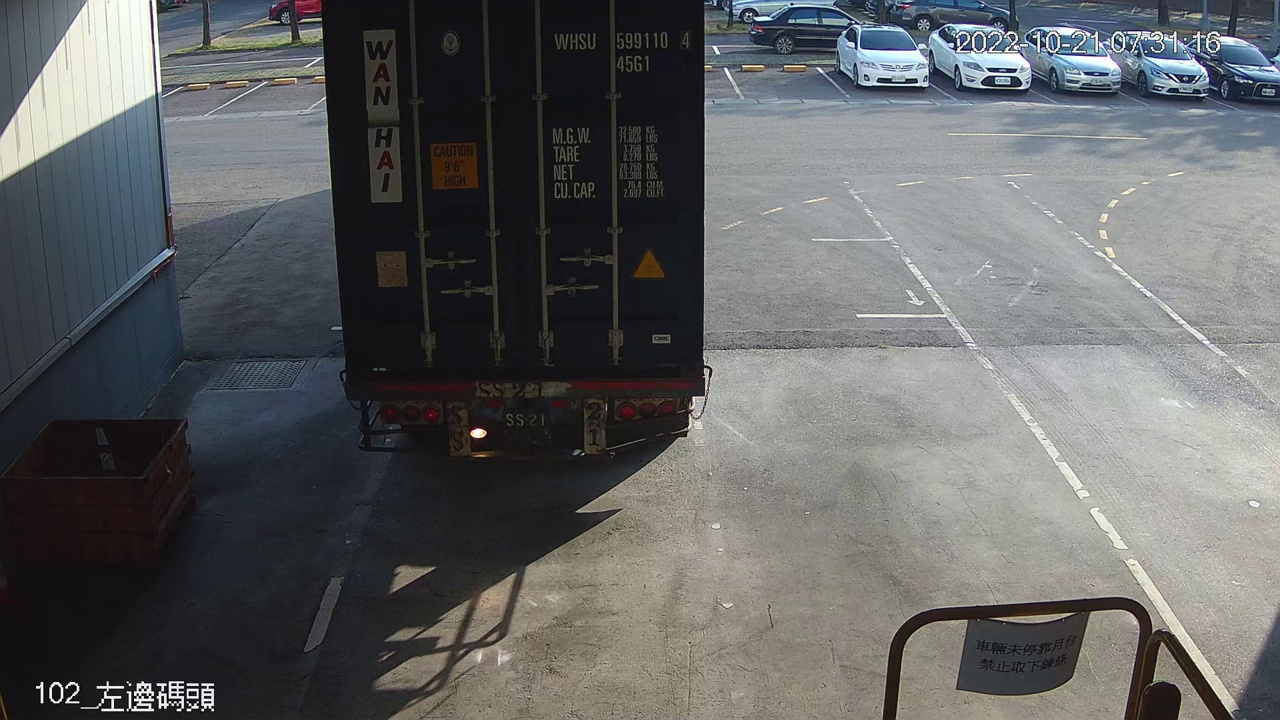container: (548, 23, 697, 78)
